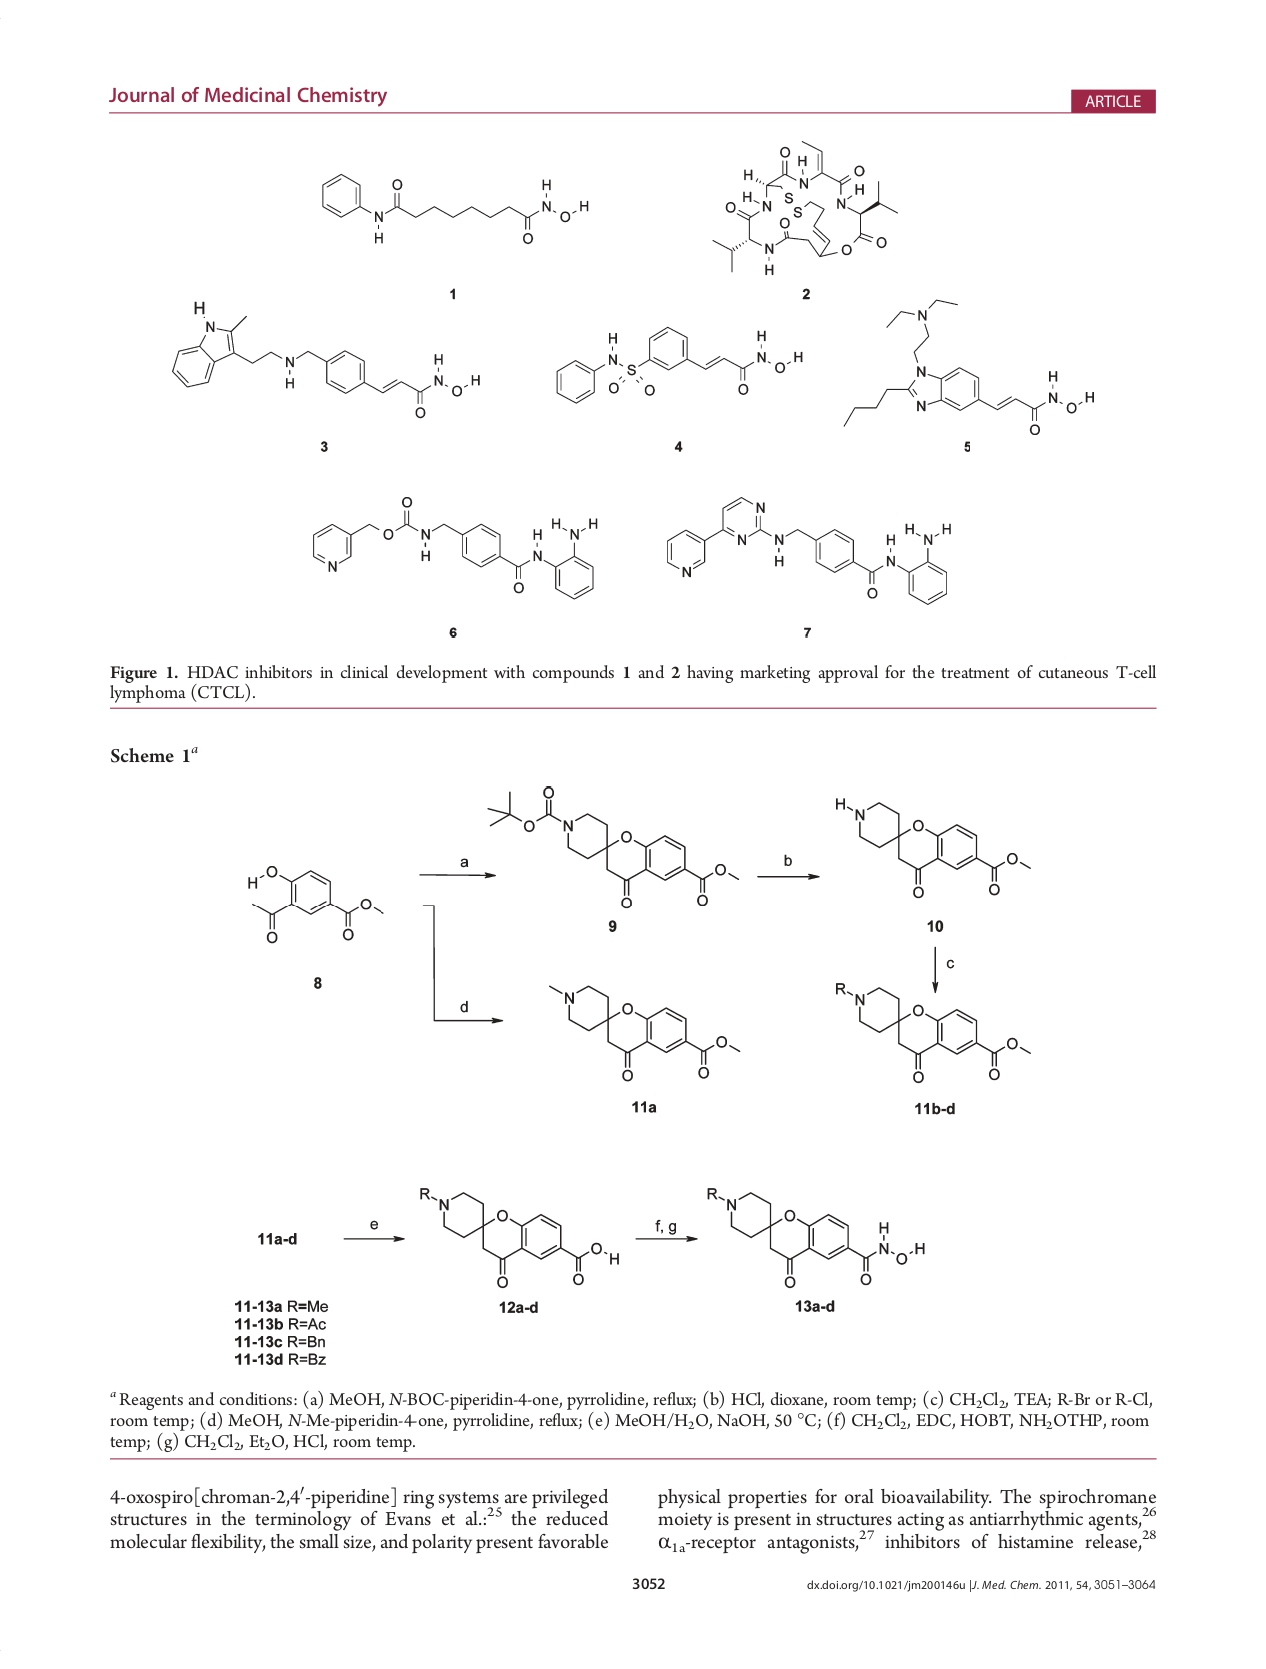exist_molecular: (164, 299, 484, 423), (839, 294, 1101, 442), (661, 493, 957, 610), (485, 781, 743, 911), (309, 489, 604, 602), (707, 136, 902, 281), (551, 310, 811, 410), (699, 1184, 930, 1293), (411, 1178, 626, 1293), (318, 168, 593, 251), (832, 790, 1035, 900), (533, 973, 739, 1081), (834, 977, 1035, 1087), (239, 864, 387, 947)
